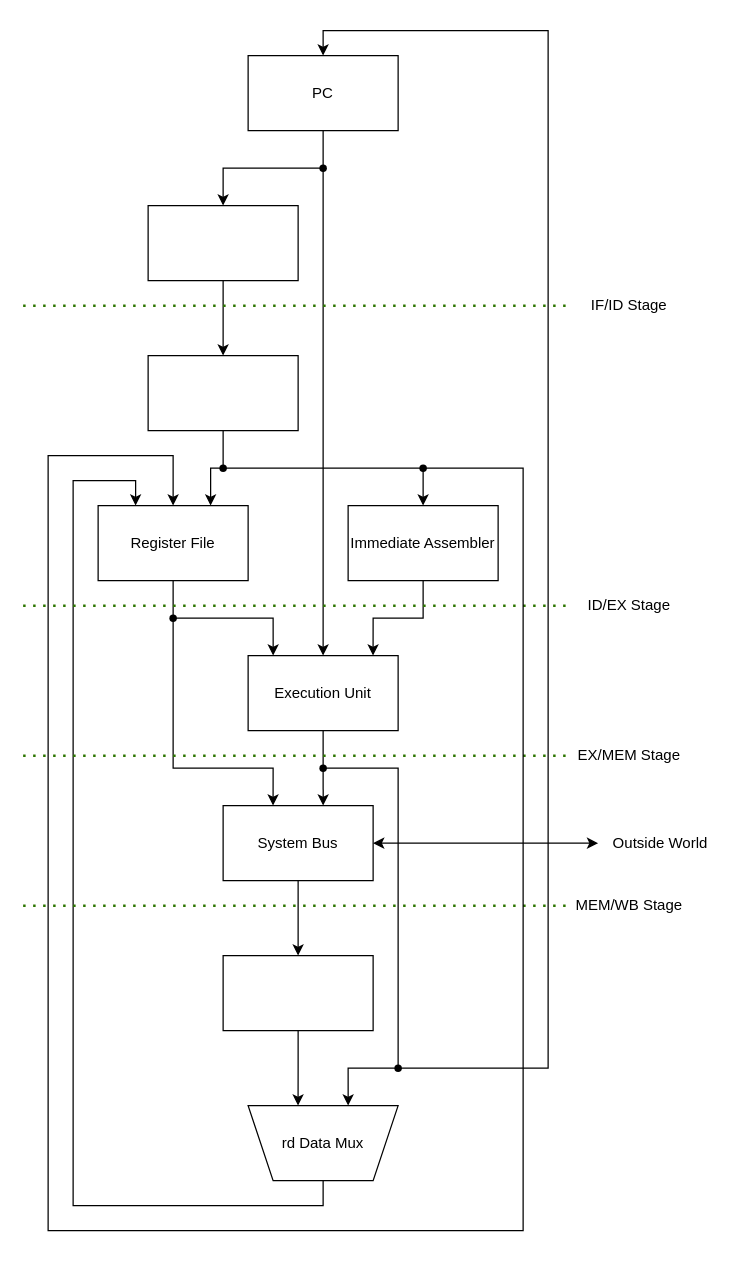
Some shapes in this 744 by 1263 pixel diagram are drawn without their labels. The centre of each missing label's shape, as x and y in pixels:
Bit Extender: the point at 297,992
CU: the point at 222,392
Instruction Memory Controller: the point at 222,242
